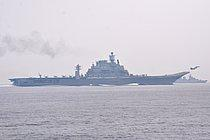MIL_Ship: (8, 51, 189, 86), (174, 69, 208, 84)
